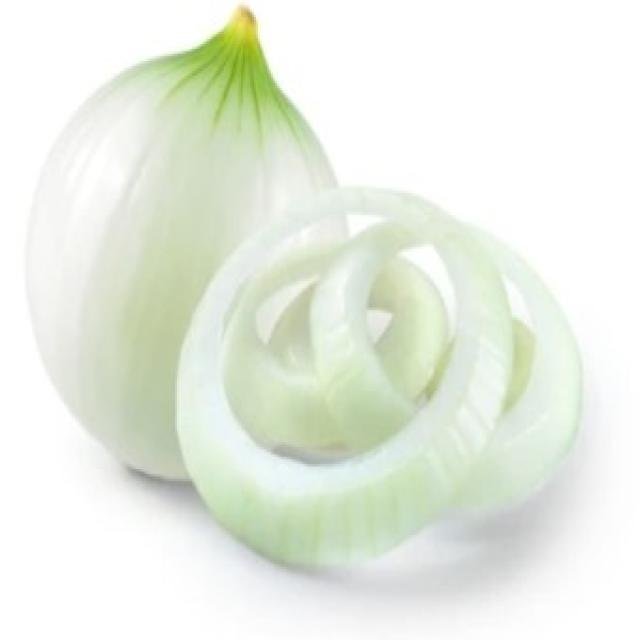onion: (223, 180, 589, 589), (16, 10, 311, 486)
